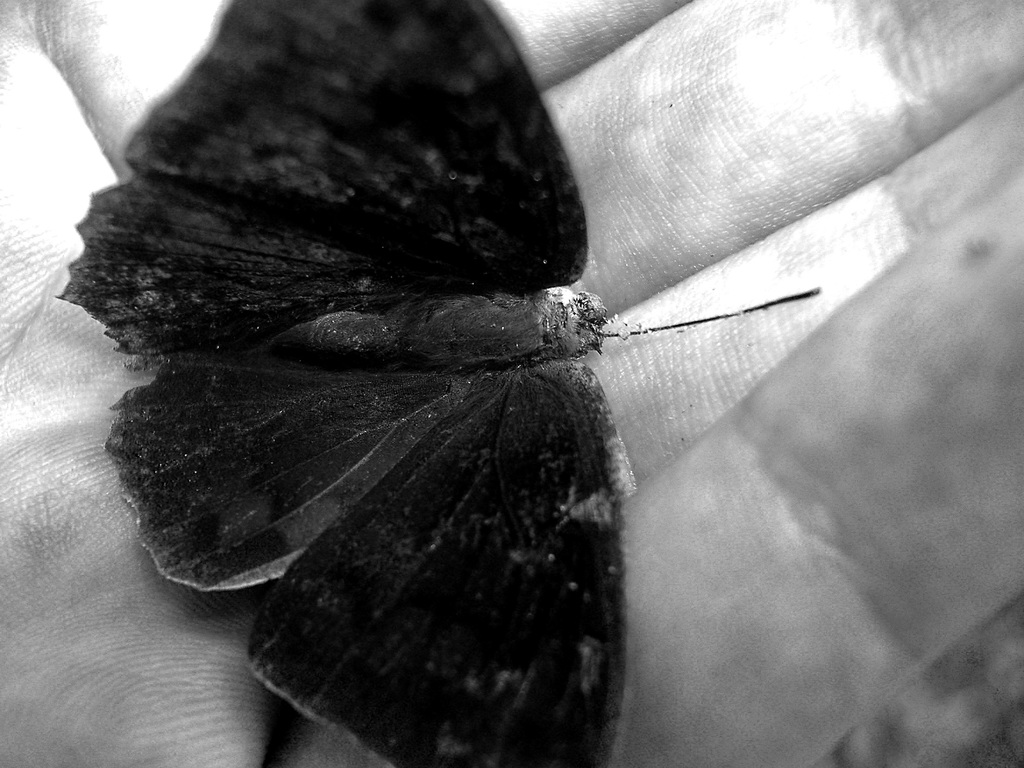Butterfly: (80, 3, 671, 768)
